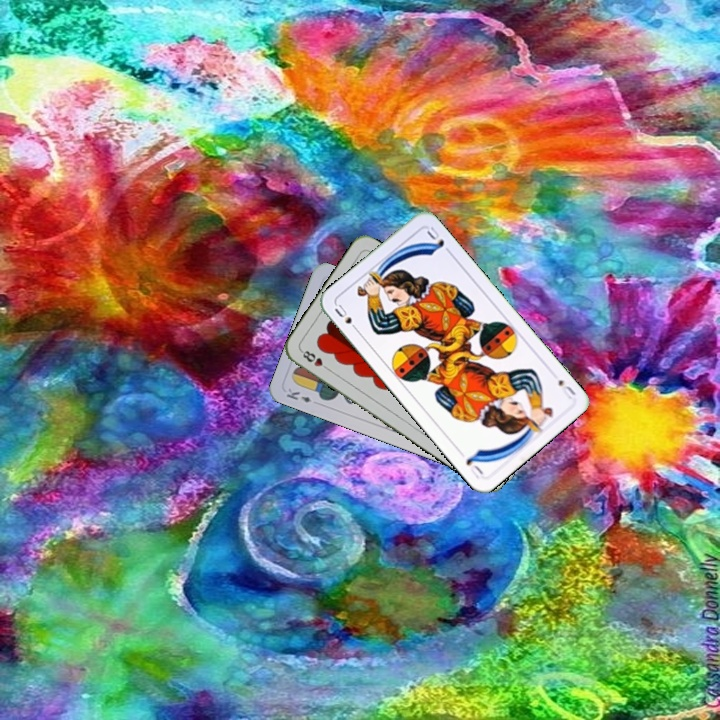EK: (282, 384, 314, 405)
H8: (297, 346, 333, 374)
SU: (330, 300, 362, 335), (554, 375, 578, 402)
